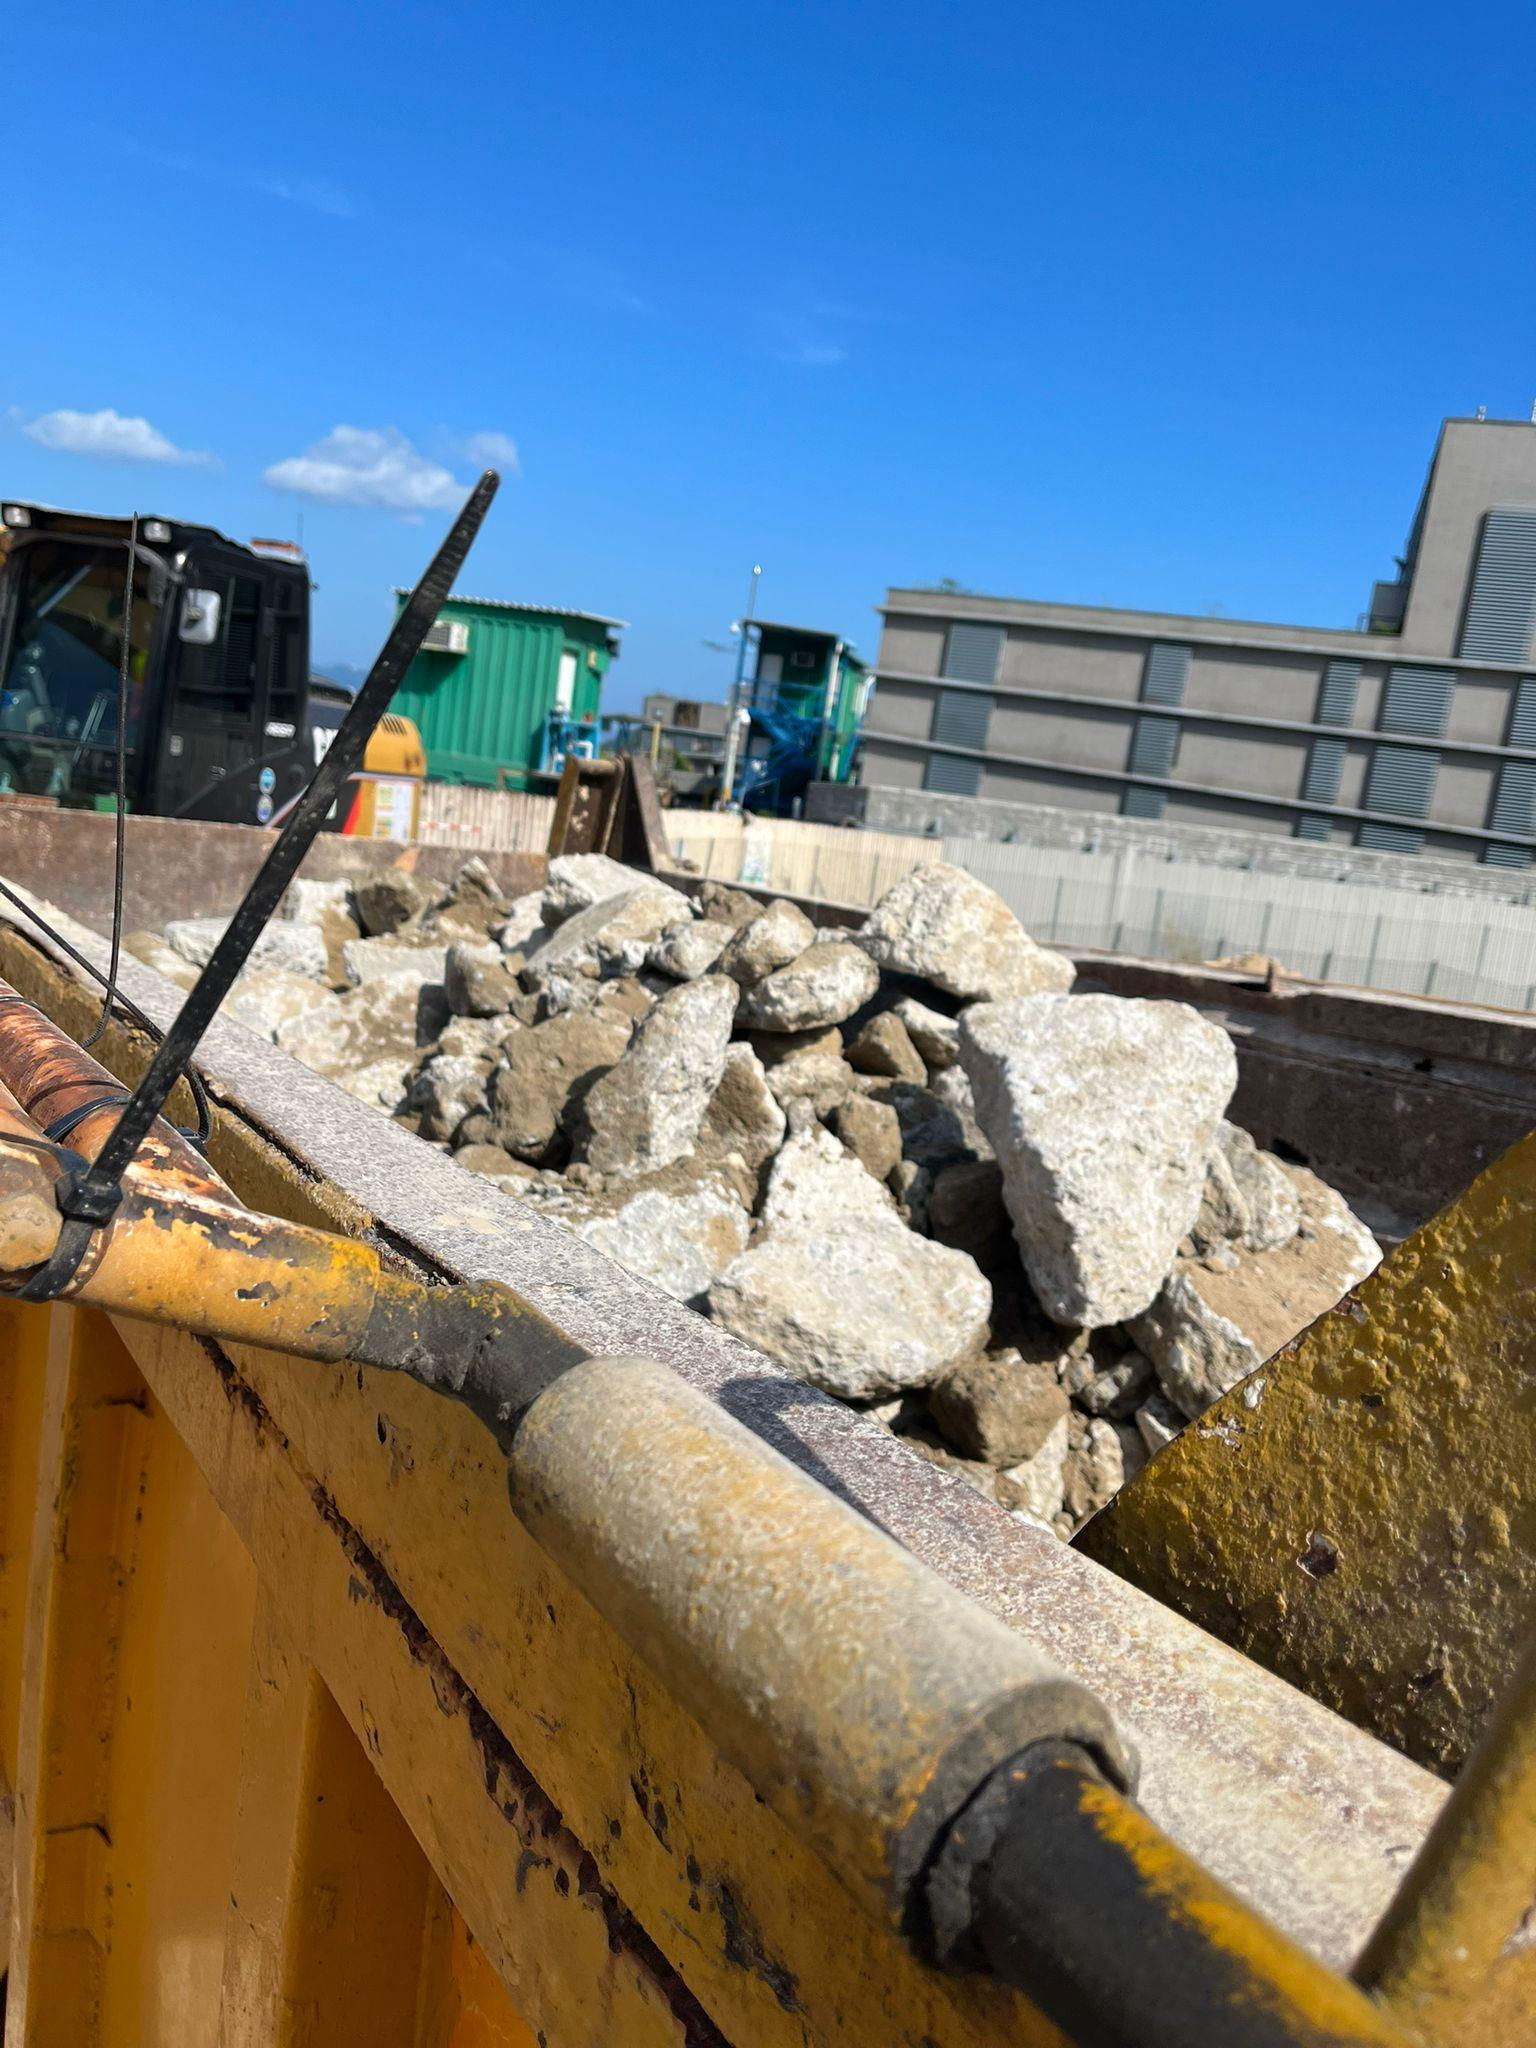dry: (260, 873, 1357, 1513)
